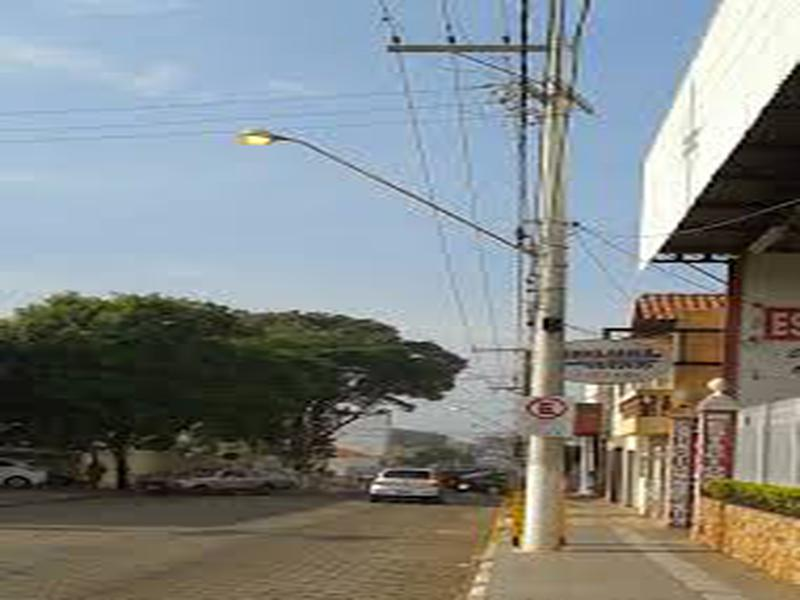IP: (214, 125, 425, 207)
